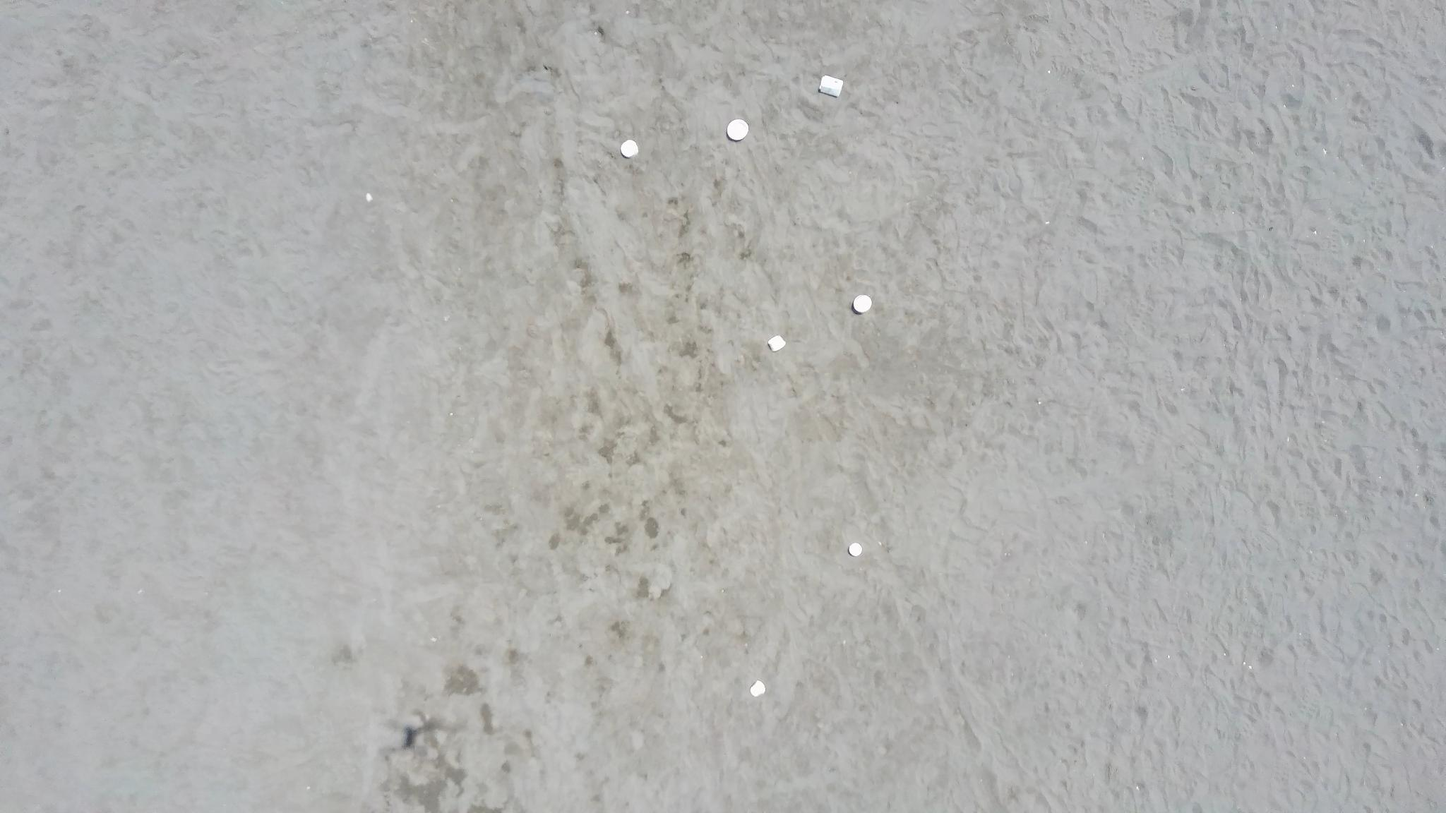Garbage: (819, 74, 842, 96), (726, 118, 748, 140), (852, 294, 871, 313), (619, 140, 638, 157), (767, 335, 786, 350), (749, 680, 765, 696), (848, 542, 861, 557)
